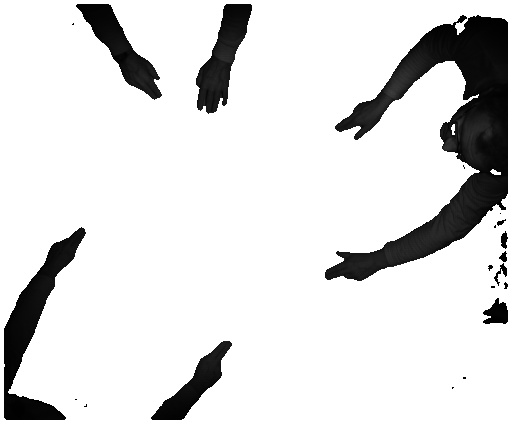hand: (328, 100, 388, 143), (192, 63, 237, 119), (320, 248, 377, 287), (46, 224, 87, 275), (123, 58, 167, 103), (194, 336, 231, 389)
